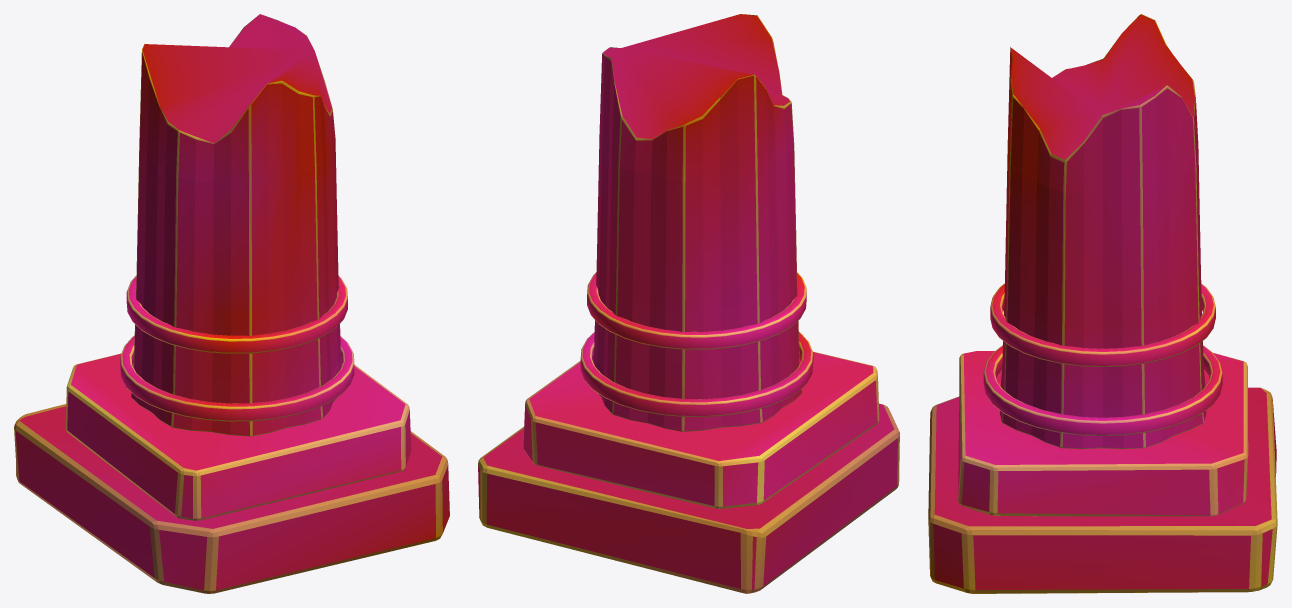
The model's file is SM_PillarBroken.fbx.
3 views of the same model, side by side, from view 1: azimuth 30°, elevation 25°; view 2: azimuth 150°, elevation 25°; view 3: azimuth 270°, elevation 25° (orthographic). The views are drawn at different scales.
Visible parts, largest first — view 1: SM_PillarBroken; view 2: SM_PillarBroken; view 3: SM_PillarBroken.
Boxes of the visible parts, left/top/right/bottom form: SM_PillarBroken: left=14, top=14, right=449, bottom=593; SM_PillarBroken: left=478, top=14, right=899, bottom=593; SM_PillarBroken: left=928, top=14, right=1277, bottom=593.
Size of what is drawn, in the model's own units: 105 by 104 by 157.
